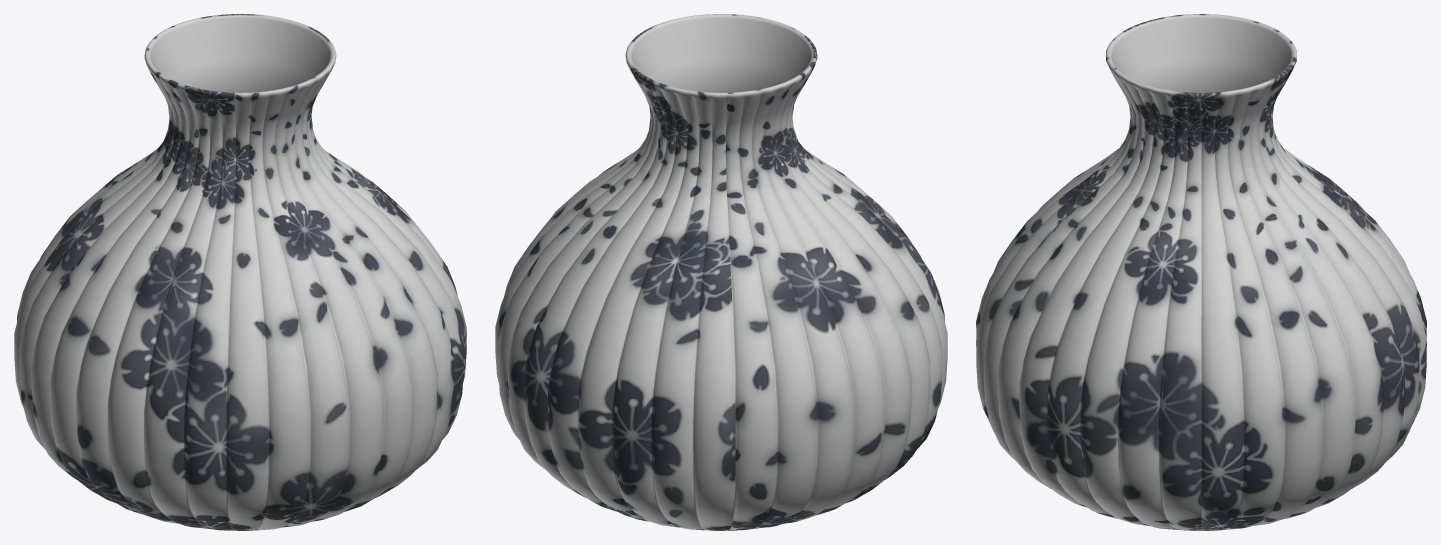
The picture shows the model from 3 angles, left to right: view 1: azimuth 30°, elevation 25°; view 2: azimuth 150°, elevation 25°; view 3: azimuth 270°, elevation 25°; orthographic projection.
Parts seen in each view (by area): view 1: Object_2; view 2: Object_2; view 3: Object_2.
Part boxes in pixels (<box>): Object_2: <box>14,14,466,530</box>; Object_2: <box>495,14,947,530</box>; Object_2: <box>976,14,1426,530</box>.
Size of the model in its own units: 0.097 by 0.1021 by 0.097.
Materials: 1 (1 with a texture image).
